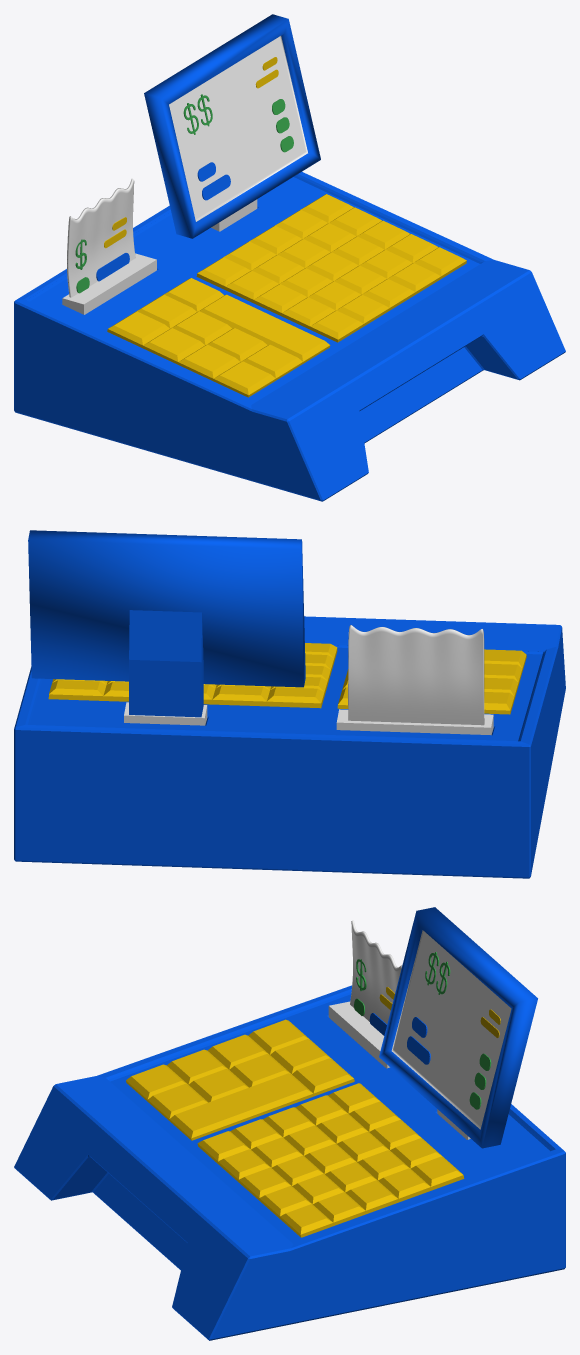
Rendered from cash-register-3d-animated-icon-1475823293465.glb.
The picture shows the model from 3 angles, top to bottom: view 1: azimuth 30°, elevation 25°; view 2: azimuth 150°, elevation 25°; view 3: azimuth 270°, elevation 25°; orthographic projection. The views are drawn at different scales.
Visible parts, largest first — view 1: Plane, Plane.010, Plane.014, Plane.002, Plane.012; view 2: Plane, Plane.014, Plane.002, Plane.010, Plane.013, Plane.012; view 3: Plane, Plane.010, Plane.014, Plane.002, Plane.012.
Boxes of the visible parts, x1,y1,x2,y2 form: Plane: (14,172,565,501); Plane.010: (107,194,466,397); Plane.014: (144,14,320,238); Plane.002: (67,179,135,297); Plane.012: (62,199,257,314); Plane: (14,616,565,878); Plane.014: (28,530,305,687); Plane.002: (348,625,484,725); Plane.010: (48,643,526,714); Plane.013: (129,610,203,717); Plane.012: (124,702,493,735); Plane: (14,985,565,1340); Plane.010: (126,1019,464,1237); Plane.014: (379,907,537,1148); Plane.002: (350,920,402,1024); Plane.012: (328,1001,470,1139).
Bounding box in the file's own units: 3.11 × 1.61 × 2.96.
